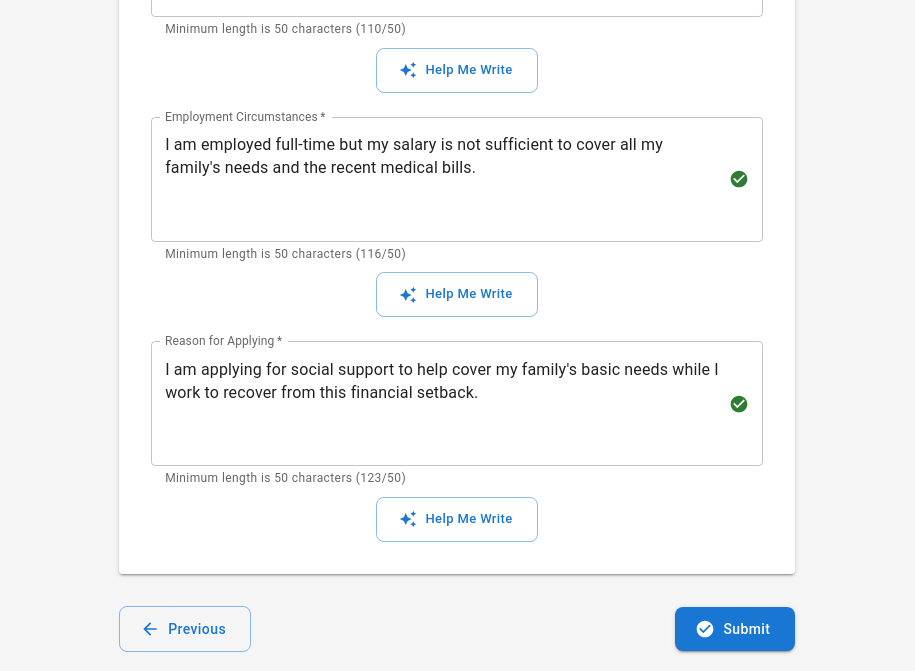
Complete form flow (all steps) › Form submission and success flow › should display success page with application ID after submission
(page scrolled)
Submit the form
Step 1. Click the button "Submit" → (735, 629), box left=675, top=607, right=795, bottom=651
(page scrolled)
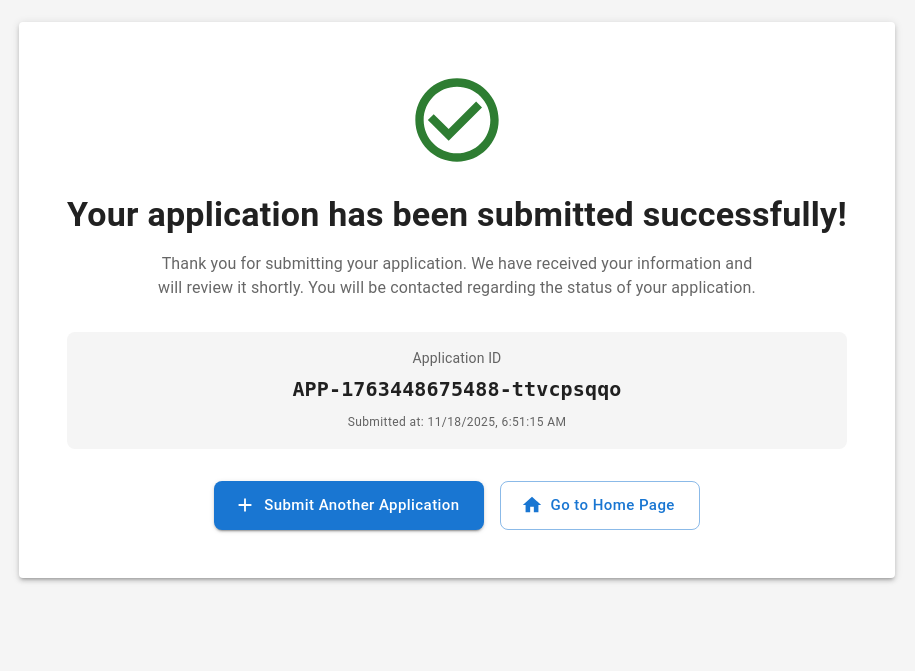
Now the heading "Your application has been submitted successfully!" is shown, box left=67, top=194, right=847, bottom=236
Now the text "Application ID" is shown, box left=413, top=350, right=502, bottom=366
Now the heading "APP-" is shown, box left=292, top=377, right=622, bottom=401
